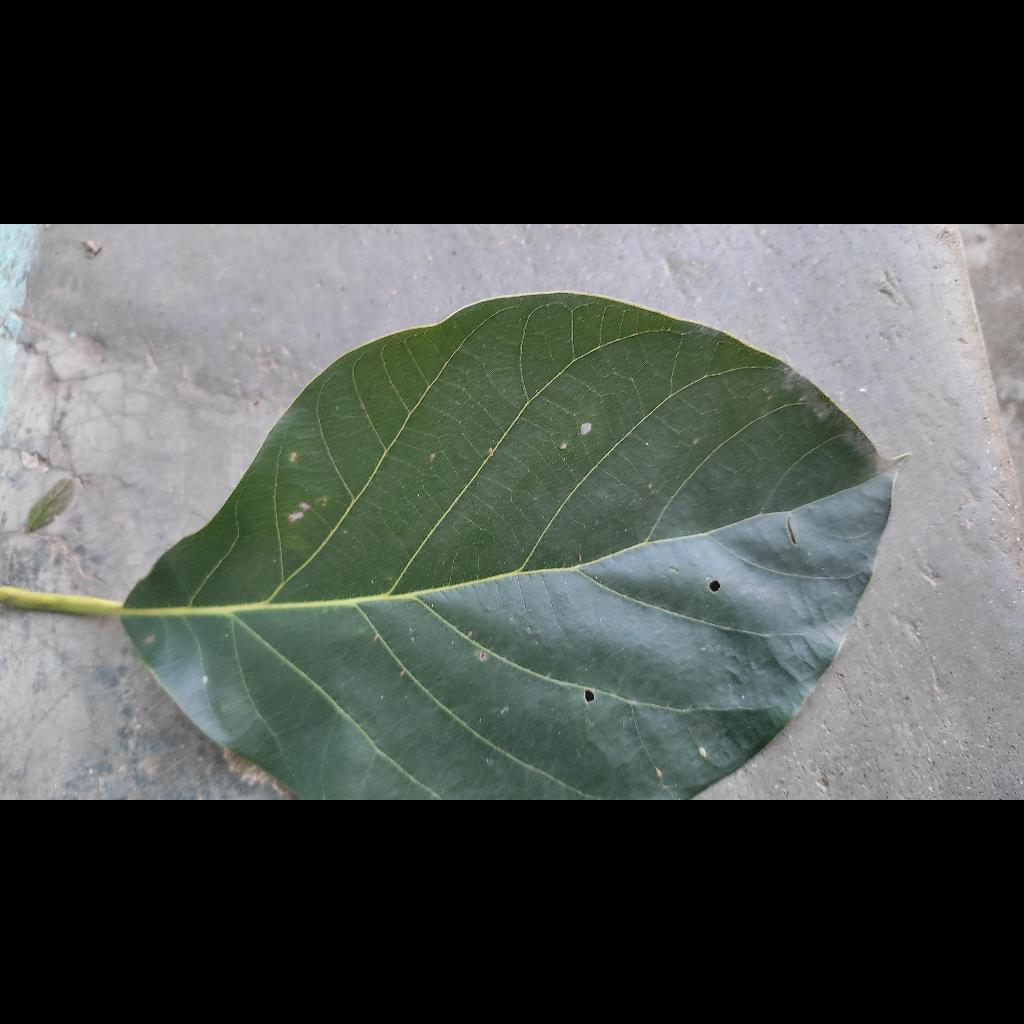hoja_sana: (0, 293, 895, 800)
